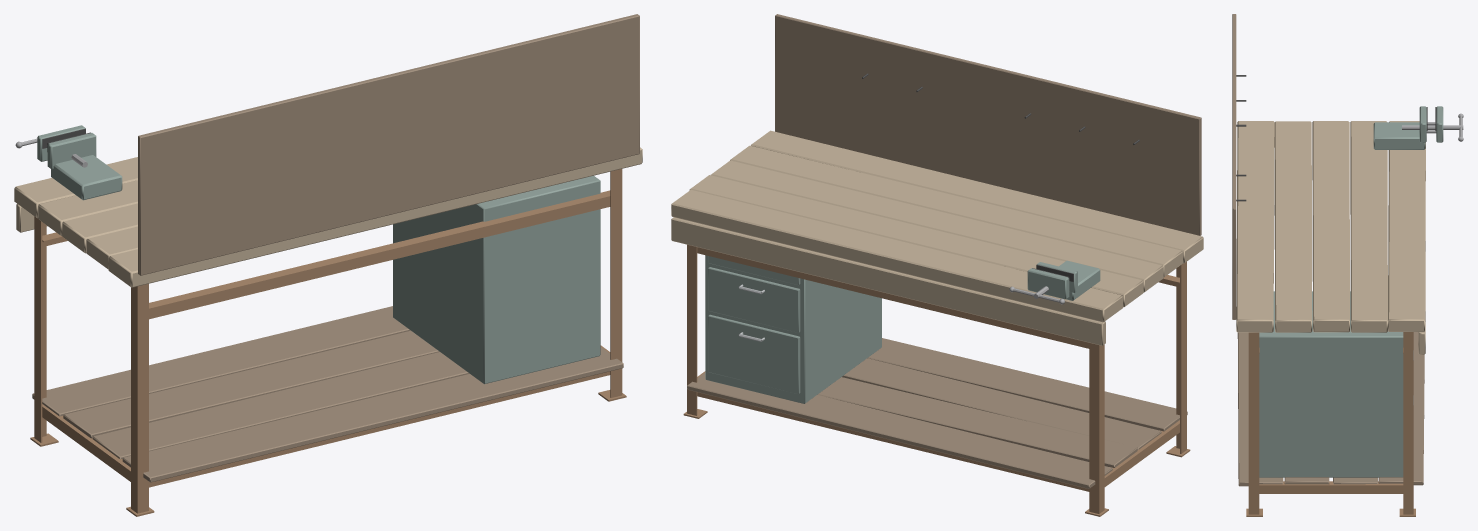
File: workbench.glb
The picture shows the model from 3 angles, left to right: view 1: azimuth 30°, elevation 25°; view 2: azimuth 150°, elevation 25°; view 3: azimuth 270°, elevation 25°; orthographic projection. The views are drawn at different scales.
Visible parts, largest first — view 1: static; view 2: static; view 3: static.
Boxes of the visible parts, x1,y1,x2,y2 form: static: [14, 14, 642, 516]; static: [671, 14, 1203, 516]; static: [1232, 14, 1463, 516].
Bounding box in the file's own units: 2.01 × 1.45 × 0.982.
